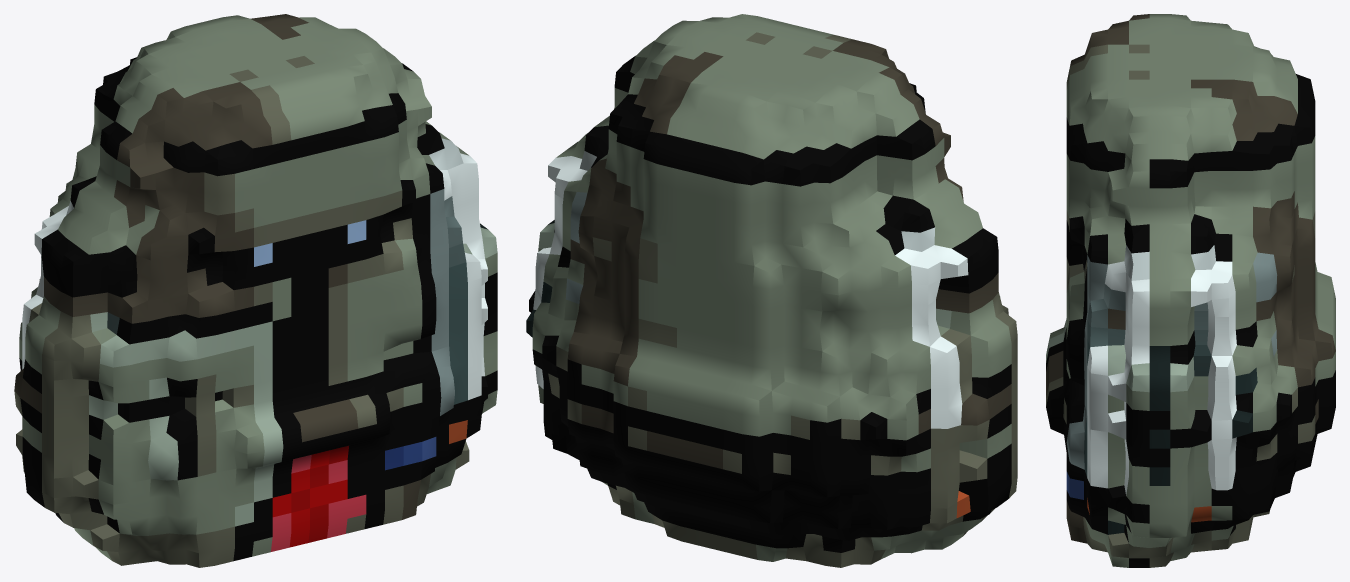
The model's file is Icon_736_02.obj.
The picture shows the model from 3 angles, left to right: view 1: azimuth 30°, elevation 25°; view 2: azimuth 150°, elevation 25°; view 3: azimuth 270°, elevation 25°; orthographic projection. The views are drawn at different scales.
Bounding box in the file's own units: 2.4 × 2.3 × 1.4.
1 material, 1 textured.
